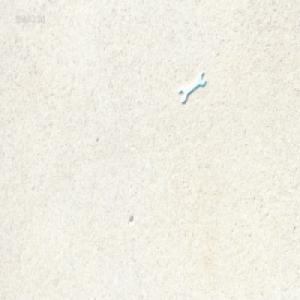Wrench: (177, 70, 203, 103)
